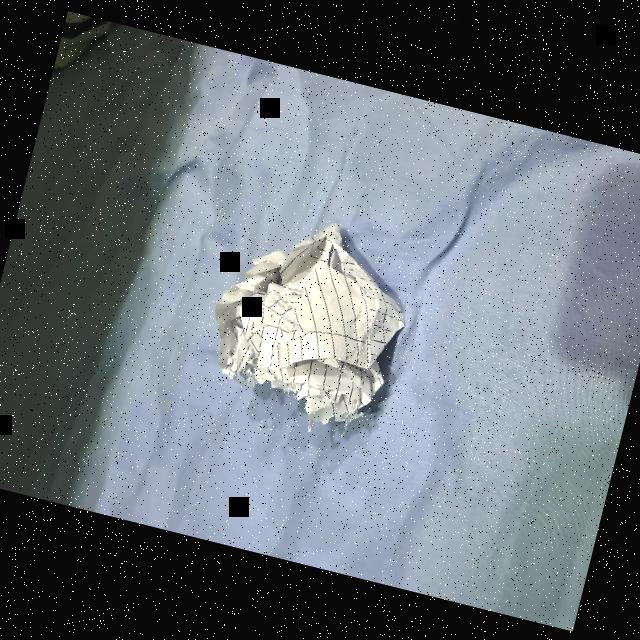scrap_paper: (200, 215, 420, 432)
